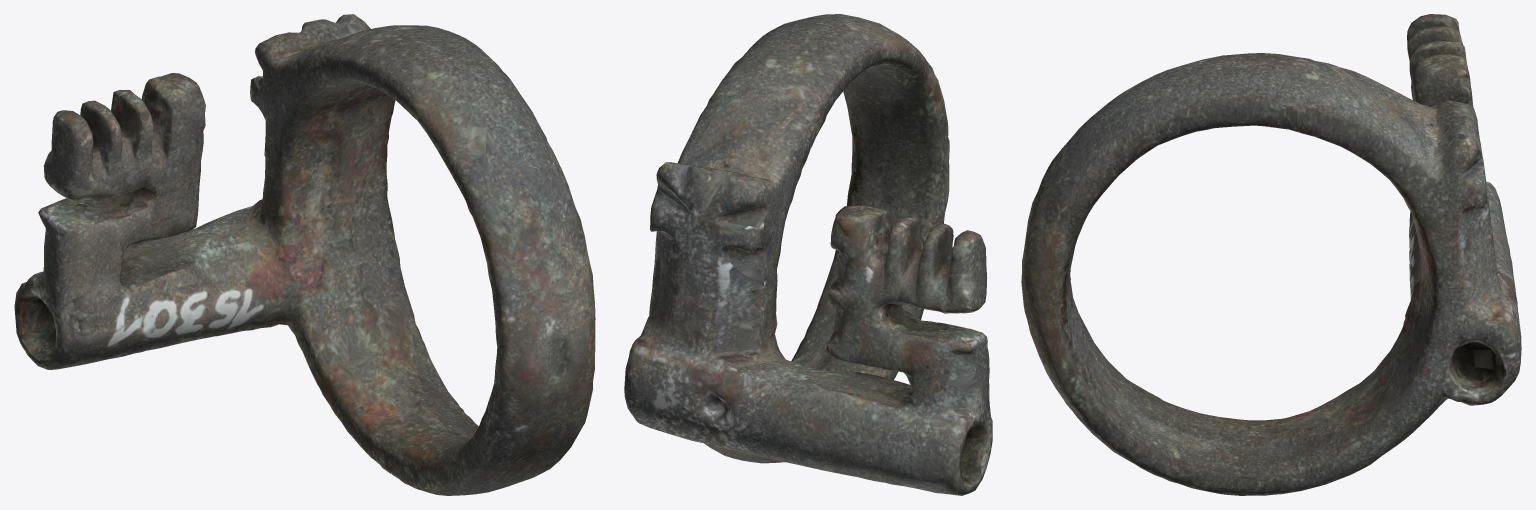
File: ANILLO LLAVE.fbx
3 renders of one model, left to right at view 1: azimuth 30°, elevation 25°; view 2: azimuth 150°, elevation 25°; view 3: azimuth 270°, elevation 25°, orthographic. The views are drawn at different scales.
Parts seen in each view (by area): view 1: ANILLO CON LLAVE; view 2: ANILLO CON LLAVE; view 3: ANILLO CON LLAVE.
Part boxes in pixels (x1,y1,x2,y2): ANILLO CON LLAVE: [14, 14, 595, 495]; ANILLO CON LLAVE: [624, 14, 992, 495]; ANILLO CON LLAVE: [1021, 14, 1521, 495].
Size of the model in its own units: 884 by 1050 by 1154.
2 materials, 2 textured.
